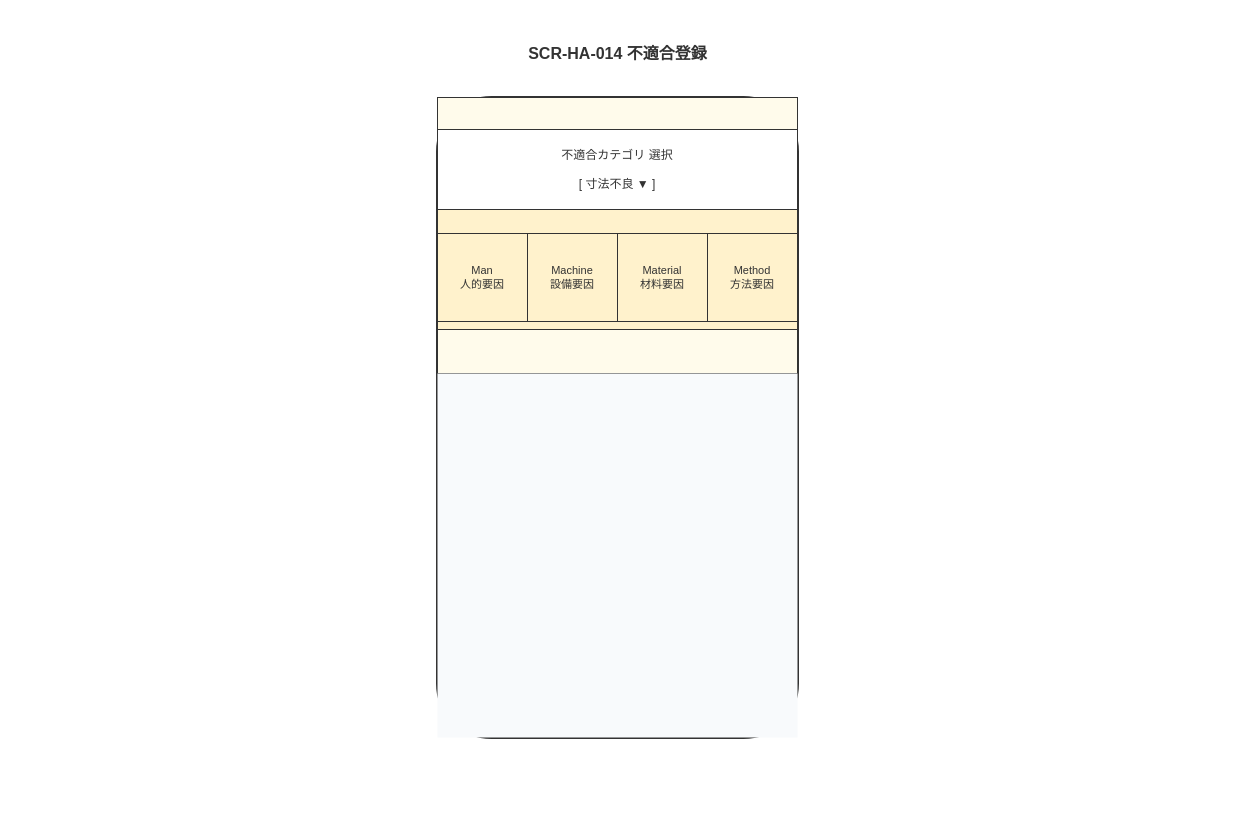
Some shapes in this 1234 by 834 pixel diagram are drawn without their labels. The shapes that lost their labels are listed below. From the top down, each one's box as (x1, y1, x2, y2) in pixels, then its label:
(436, 96, 798, 130): OfflineBanner
(436, 208, 798, 330): 4M 分析
(436, 328, 798, 374): 登録ボタン (44dp)
